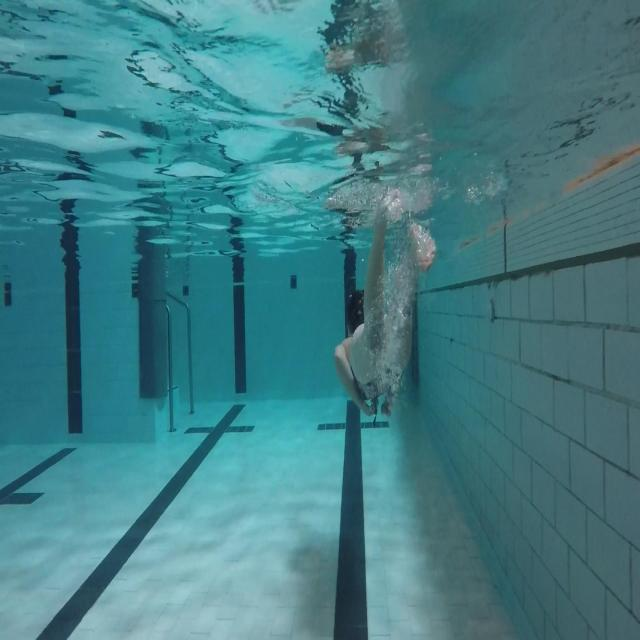human: (333, 192, 436, 420)
